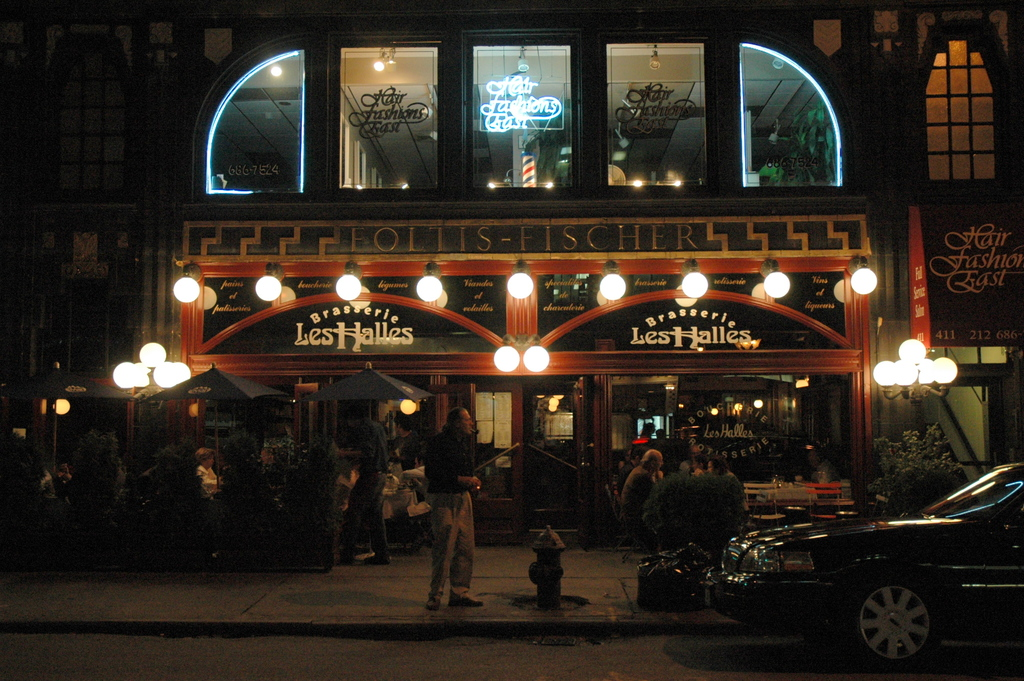Car: (707, 462, 1014, 663)
